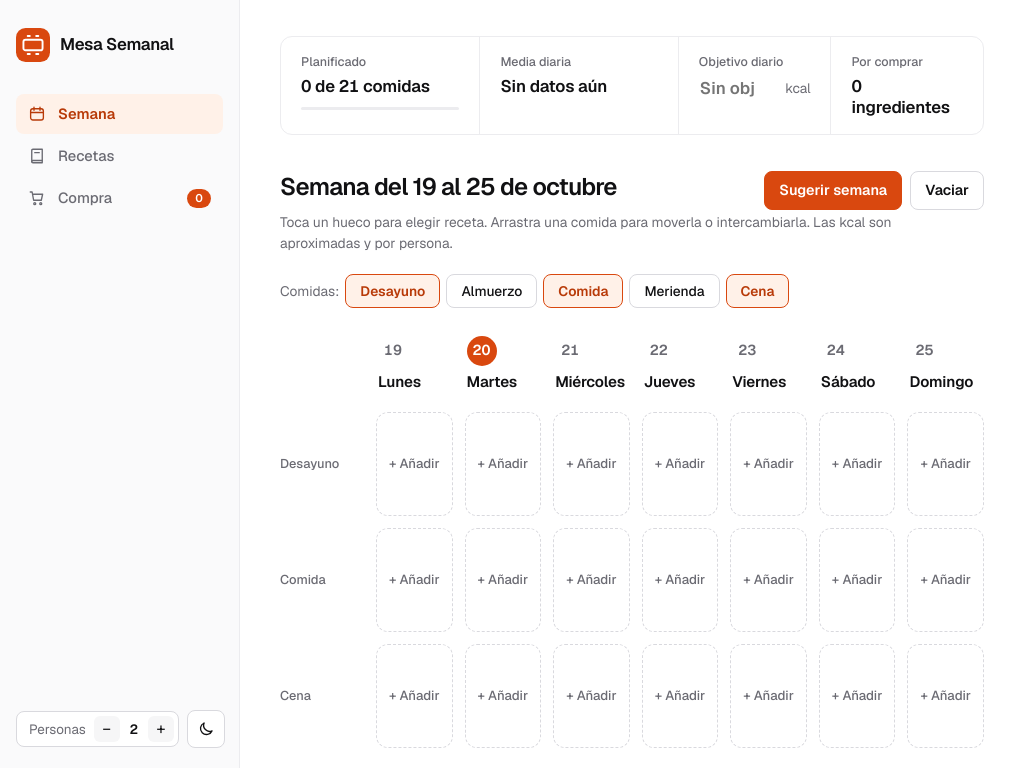
Semana › siempre deja al menos una comida activa
The width and height of the screenshot is (1024, 768).
Click the button "Desayuno" at (393, 291), box 345,274 -> 440,308
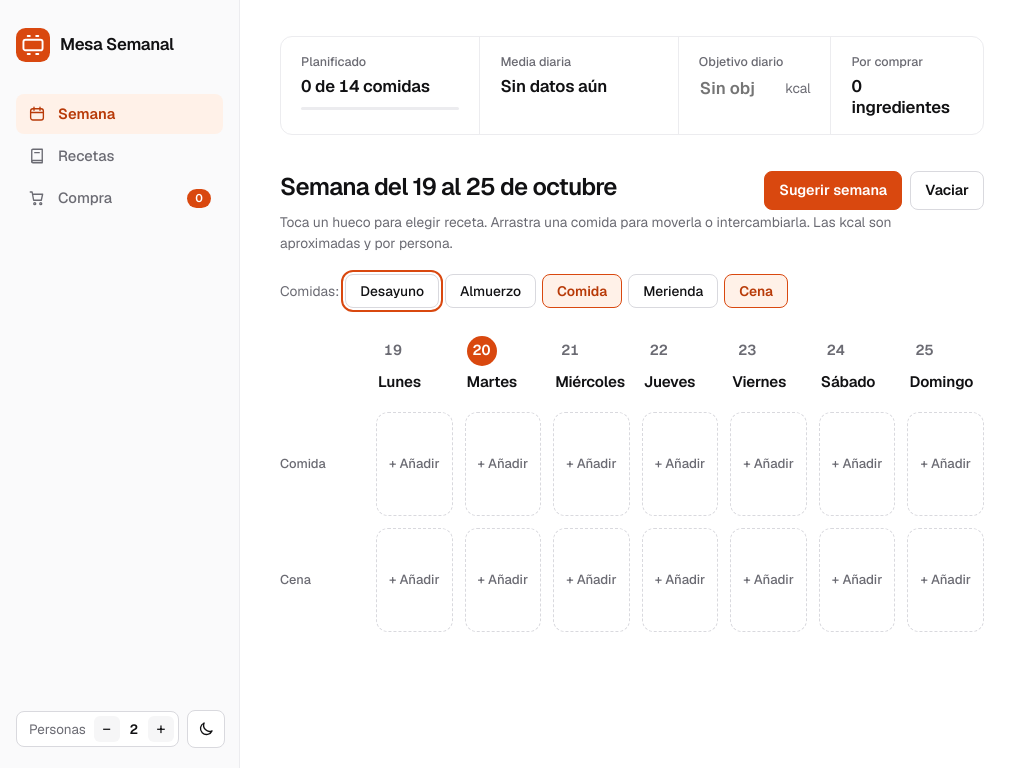
Click the button "Cena" at (756, 291), box 724,274 -> 788,308
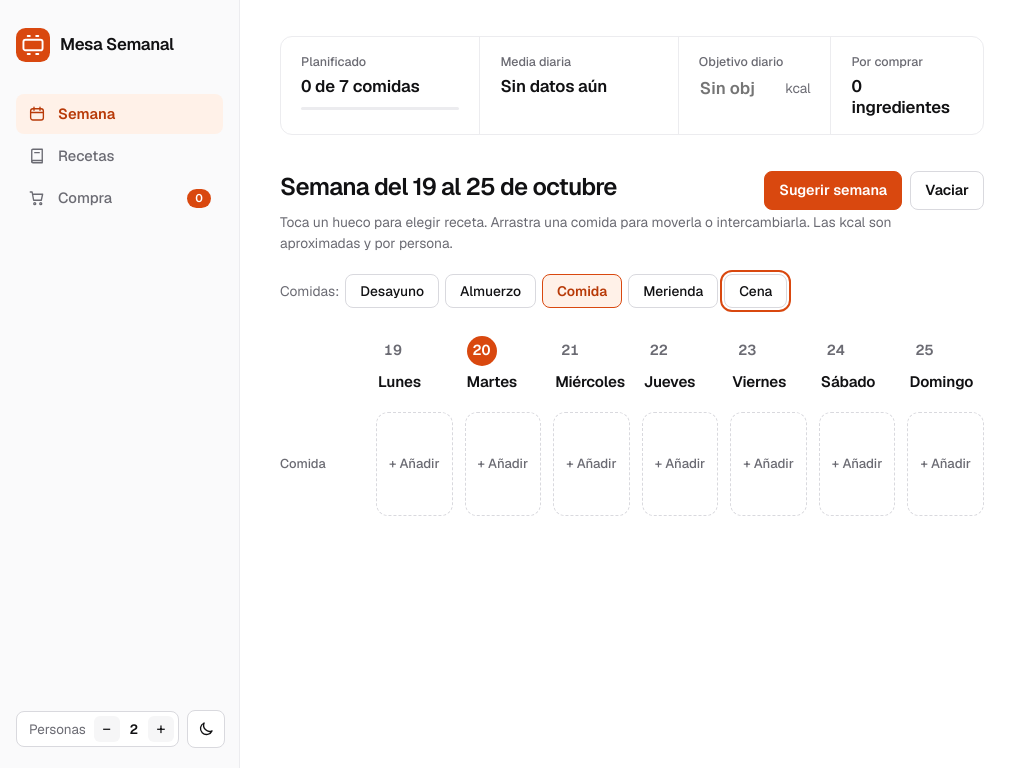
Click the button "Comida" at (582, 291), box 542,274 -> 622,308
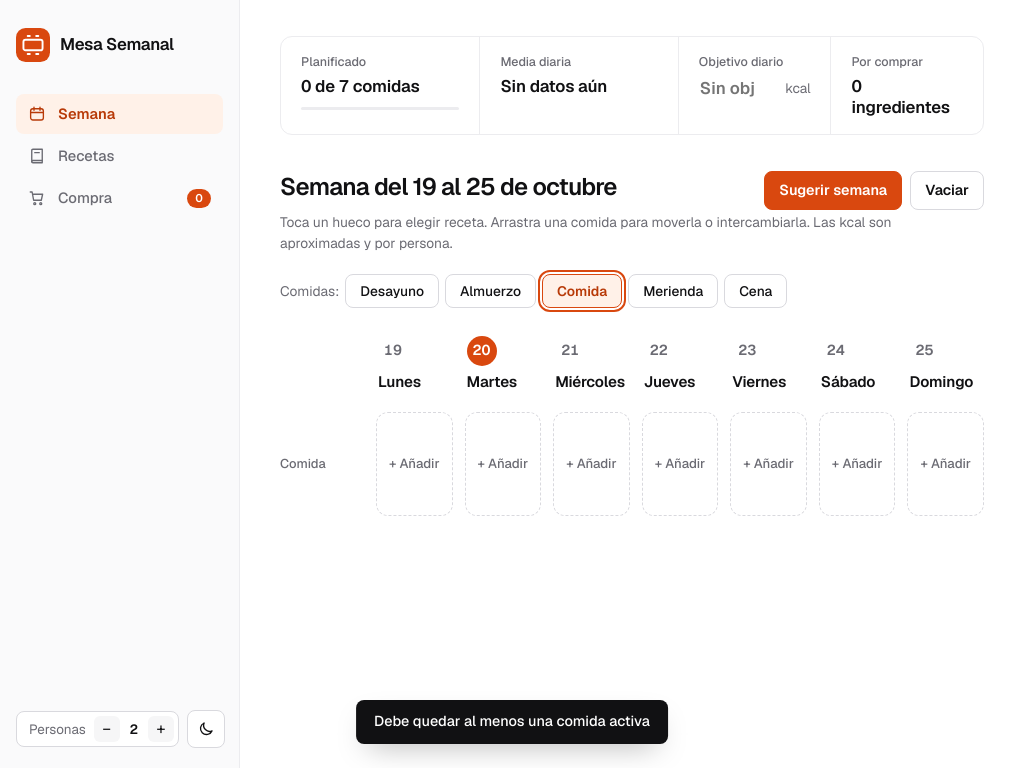
Check: the text "Debe quedar al menos una comida activa" is shown, box 356,700 -> 668,744
